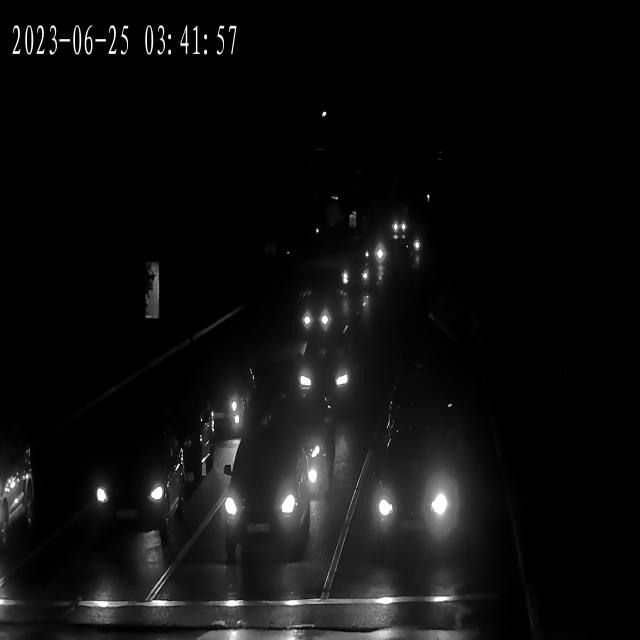Car: (363, 440, 462, 550), (220, 442, 312, 559), (79, 431, 182, 534), (188, 361, 258, 442), (0, 436, 41, 564), (294, 347, 355, 413), (290, 302, 334, 340), (340, 261, 377, 295), (362, 243, 388, 266), (411, 232, 424, 269), (387, 218, 408, 235)
